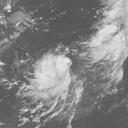cyclone: (32, 55, 73, 93)
